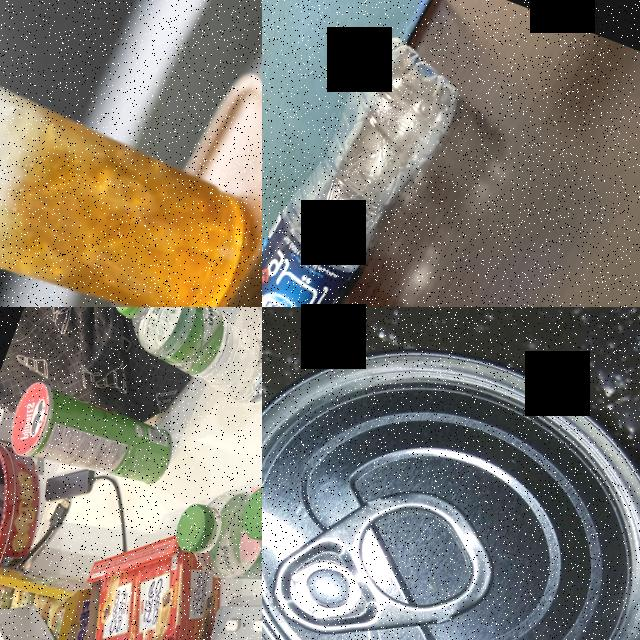bottle: (262, 11, 480, 307), (0, 530, 262, 640), (93, 307, 262, 426), (162, 469, 262, 615)
cup: (0, 4, 262, 307)
